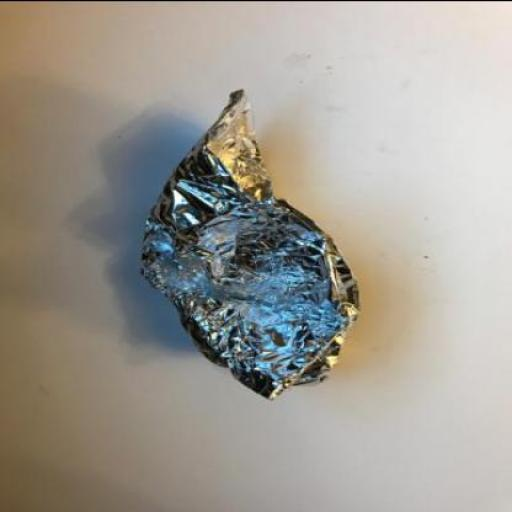metal: (136, 86, 358, 398)
